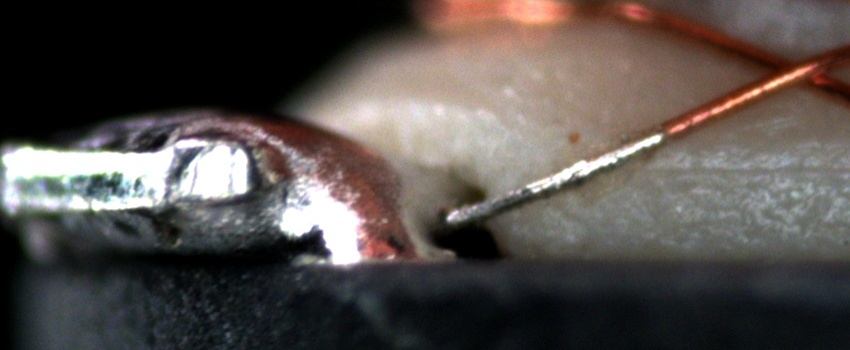CL: (745, 40, 841, 99)
DL: (651, 139, 850, 201)
TS: (446, 125, 666, 226)
